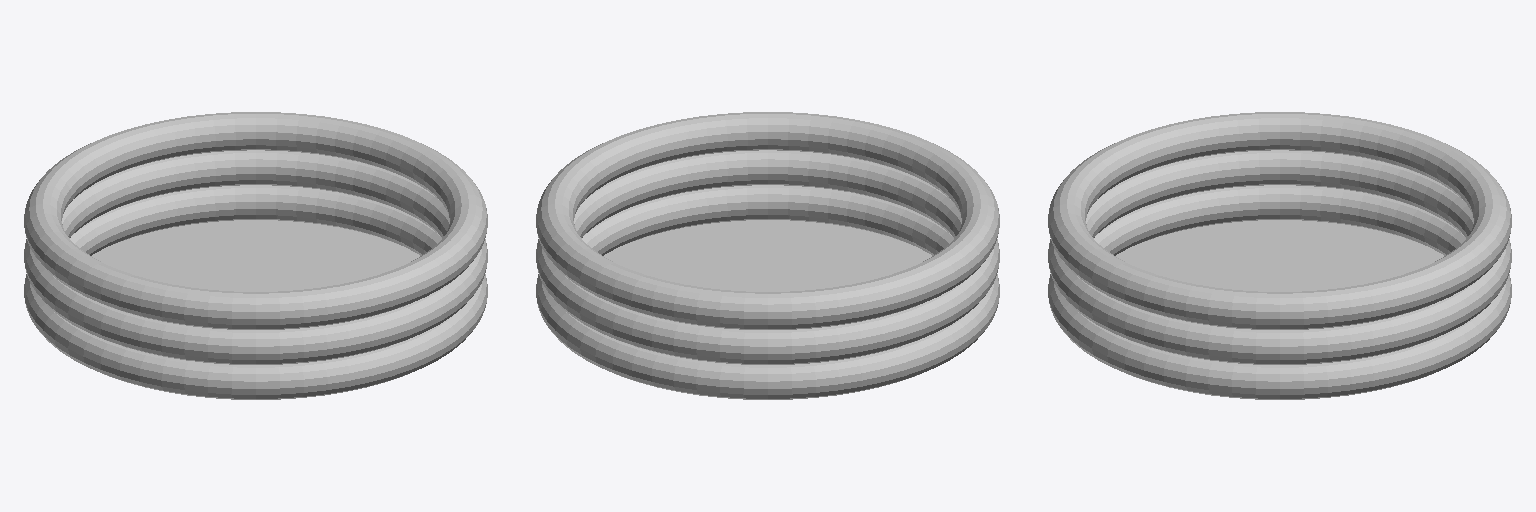
The model's file is InflatablePool.obj.
3 views of the same model, side by side, from view 1: azimuth 30°, elevation 25°; view 2: azimuth 150°, elevation 25°; view 3: azimuth 270°, elevation 25° (orthographic).
Parts seen in each view (by area): view 1: InflatablePool; view 2: InflatablePool; view 3: InflatablePool.
Part boxes in pixels (left/top/right/bottom): InflatablePool: left=24, top=112, right=487, bottom=399; InflatablePool: left=536, top=112, right=999, bottom=399; InflatablePool: left=1048, top=112, right=1511, bottom=399.
Size of the model in its own units: 39.46 by 9.8 by 39.46.